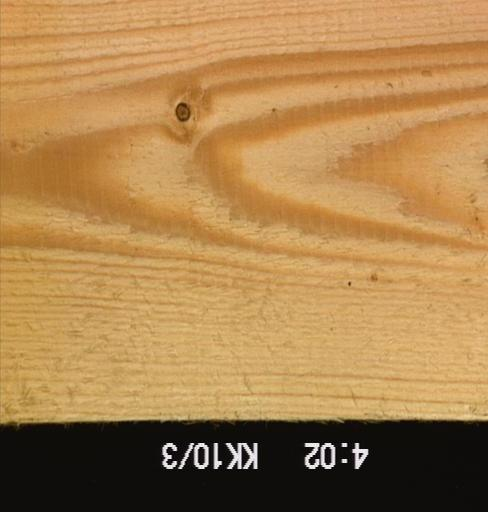dry_knot: (173, 101, 191, 123)
